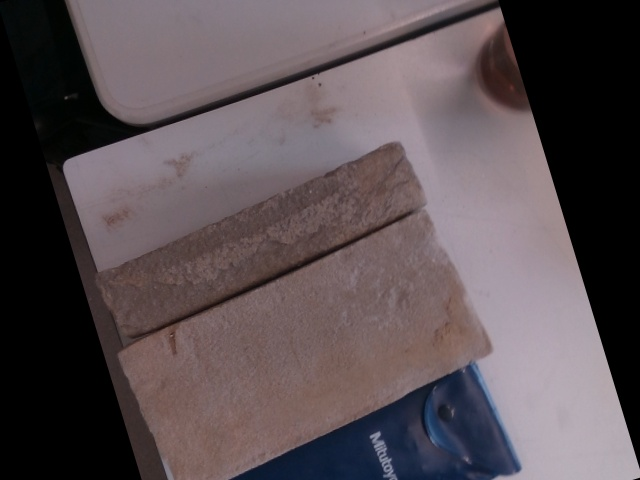brick: (120, 213, 490, 479)
